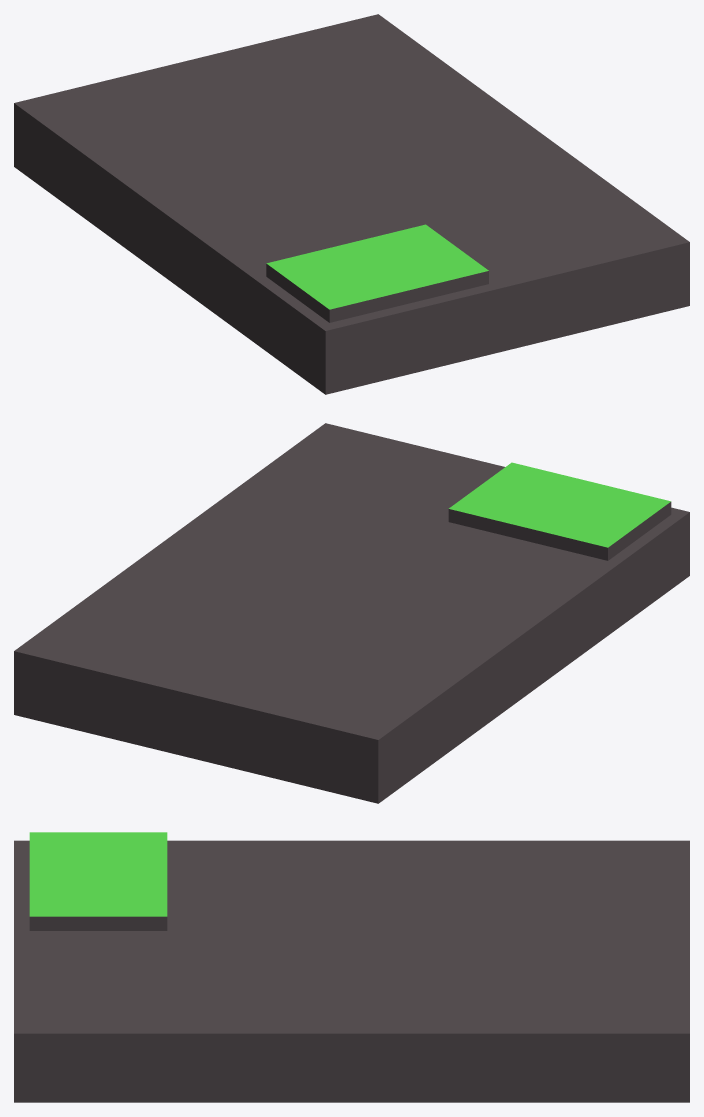
File: Engine1.fbx
3 renders of one model, top to bottom at view 1: azimuth 30°, elevation 25°; view 2: azimuth 150°, elevation 25°; view 3: azimuth 270°, elevation 25°, orthographic. The views are drawn at different scales.
Visible parts, largest first — view 1: Cube; view 2: Cube; view 3: Cube.
Part boxes in pixels (left/top/right/bottom): Cube: left=14, top=14, right=689, bottom=394; Cube: left=14, top=423, right=689, bottom=803; Cube: left=14, top=832, right=689, bottom=1102.
Bounding box in the file's own units: 62.01 × 12.52 × 91.8.
